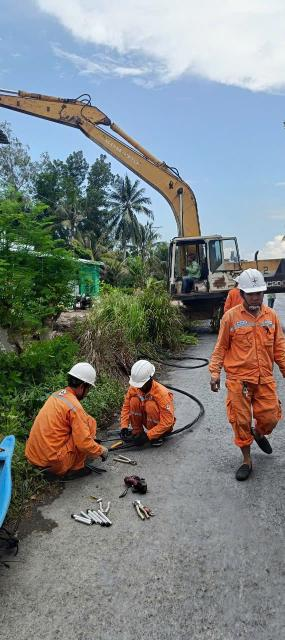gloves: (95, 443, 114, 461), (117, 421, 134, 439), (133, 430, 149, 447)
helmet: (235, 268, 274, 300), (66, 356, 102, 390), (125, 356, 158, 389), (233, 275, 246, 286)
shoes: (242, 429, 280, 462), (229, 458, 258, 481), (59, 467, 97, 481)
